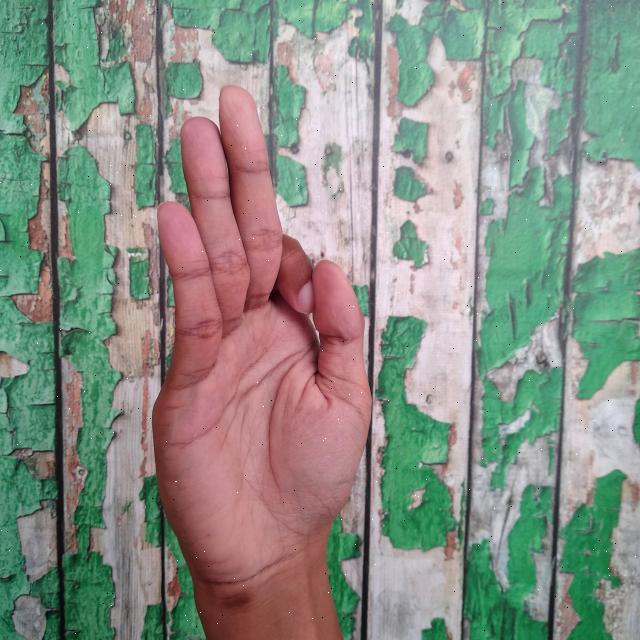F: (150, 84, 377, 640)
